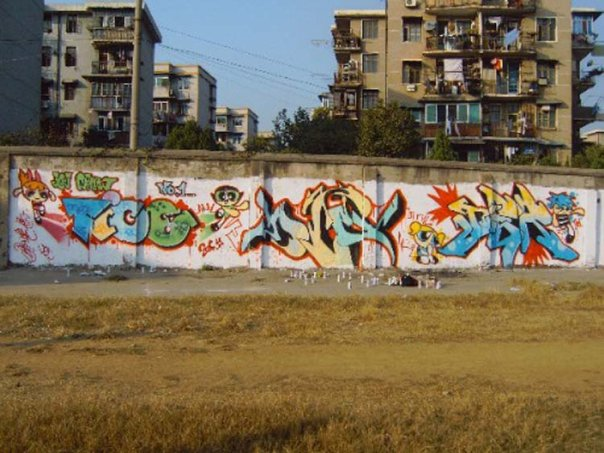graffity: (12, 167, 248, 260), (407, 180, 590, 273), (238, 178, 409, 274)
